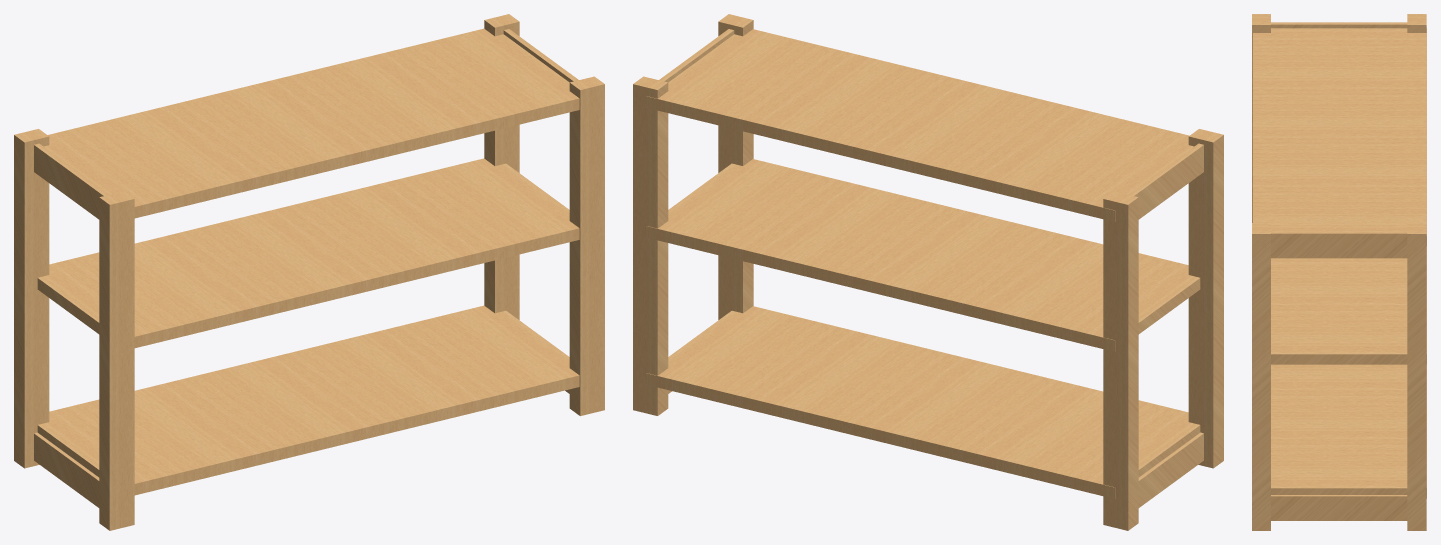
Rendered from sweethome3d-contributions-pinewood-rack-low-height-194.glb.
The picture shows the model from 3 angles, left to right: view 1: azimuth 30°, elevation 25°; view 2: azimuth 150°, elevation 25°; view 3: azimuth 270°, elevation 25°; orthographic projection. The views are drawn at different scales.
Visible parts, largest first — view 1: rack; view 2: rack; view 3: rack.
Boxes of the visible parts, left/top/right/bottom form: rack: left=14, top=14, right=604, bottom=530; rack: left=633, top=14, right=1223, bottom=530; rack: left=1252, top=14, right=1426, bottom=530.
Bounding box in the file's own units: 89.8 × 56.5 × 30.17.
1 material, 1 textured.
